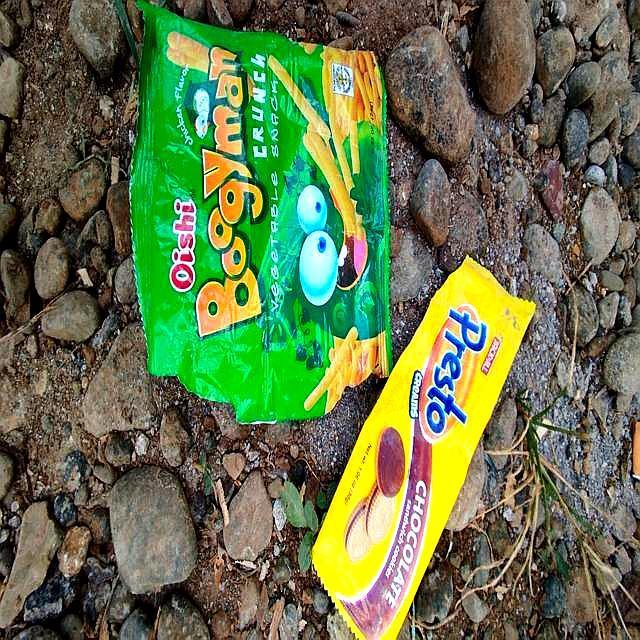Non-biodegradable: (123, 1, 391, 431), (297, 247, 543, 640)
